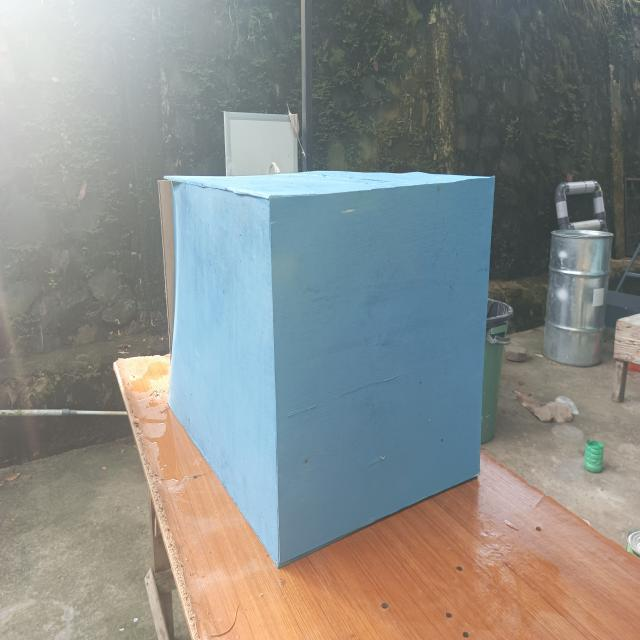blue_box: (155, 166, 514, 561)
